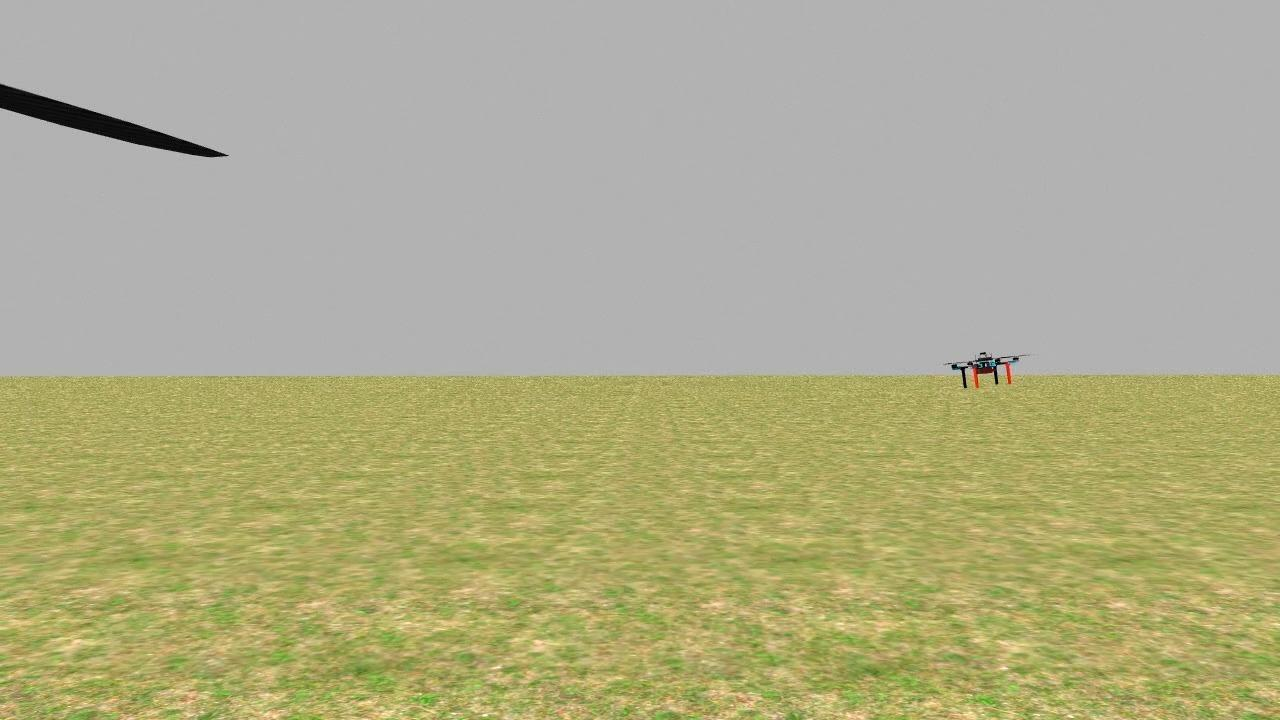UAV: (944, 343, 1026, 397)
